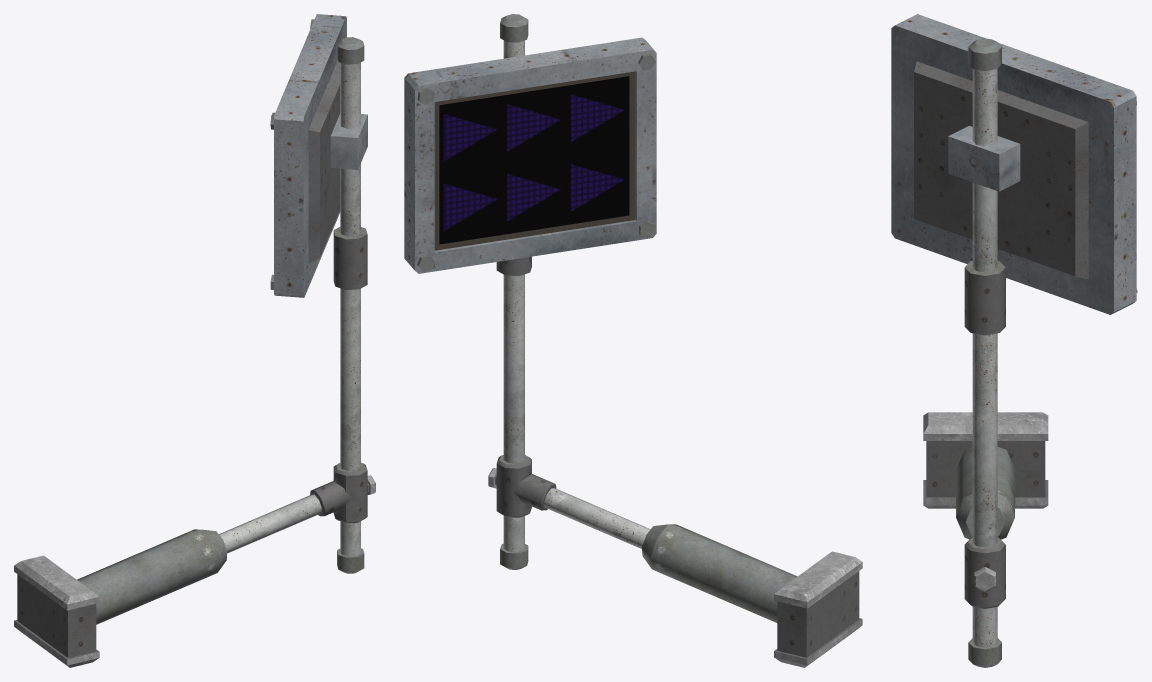
Rendered from Ob_Signpost_RC.fbx.
The picture shows the model from 3 angles, left to right: view 1: azimuth 30°, elevation 25°; view 2: azimuth 150°, elevation 25°; view 3: azimuth 270°, elevation 25°; orthographic projection. The views are drawn at different scales.
Visible parts, largest first — view 1: Ob_Signpost_RC; view 2: Ob_Signpost_RC; view 3: Ob_Signpost_RC.
Part boxes in pixels (x1,y1,x2,y2): Ob_Signpost_RC: (14,14,375,667); Ob_Signpost_RC: (404,14,862,667); Ob_Signpost_RC: (891,14,1137,667).
Size of the model in its own units: 487 by 689 by 245.
